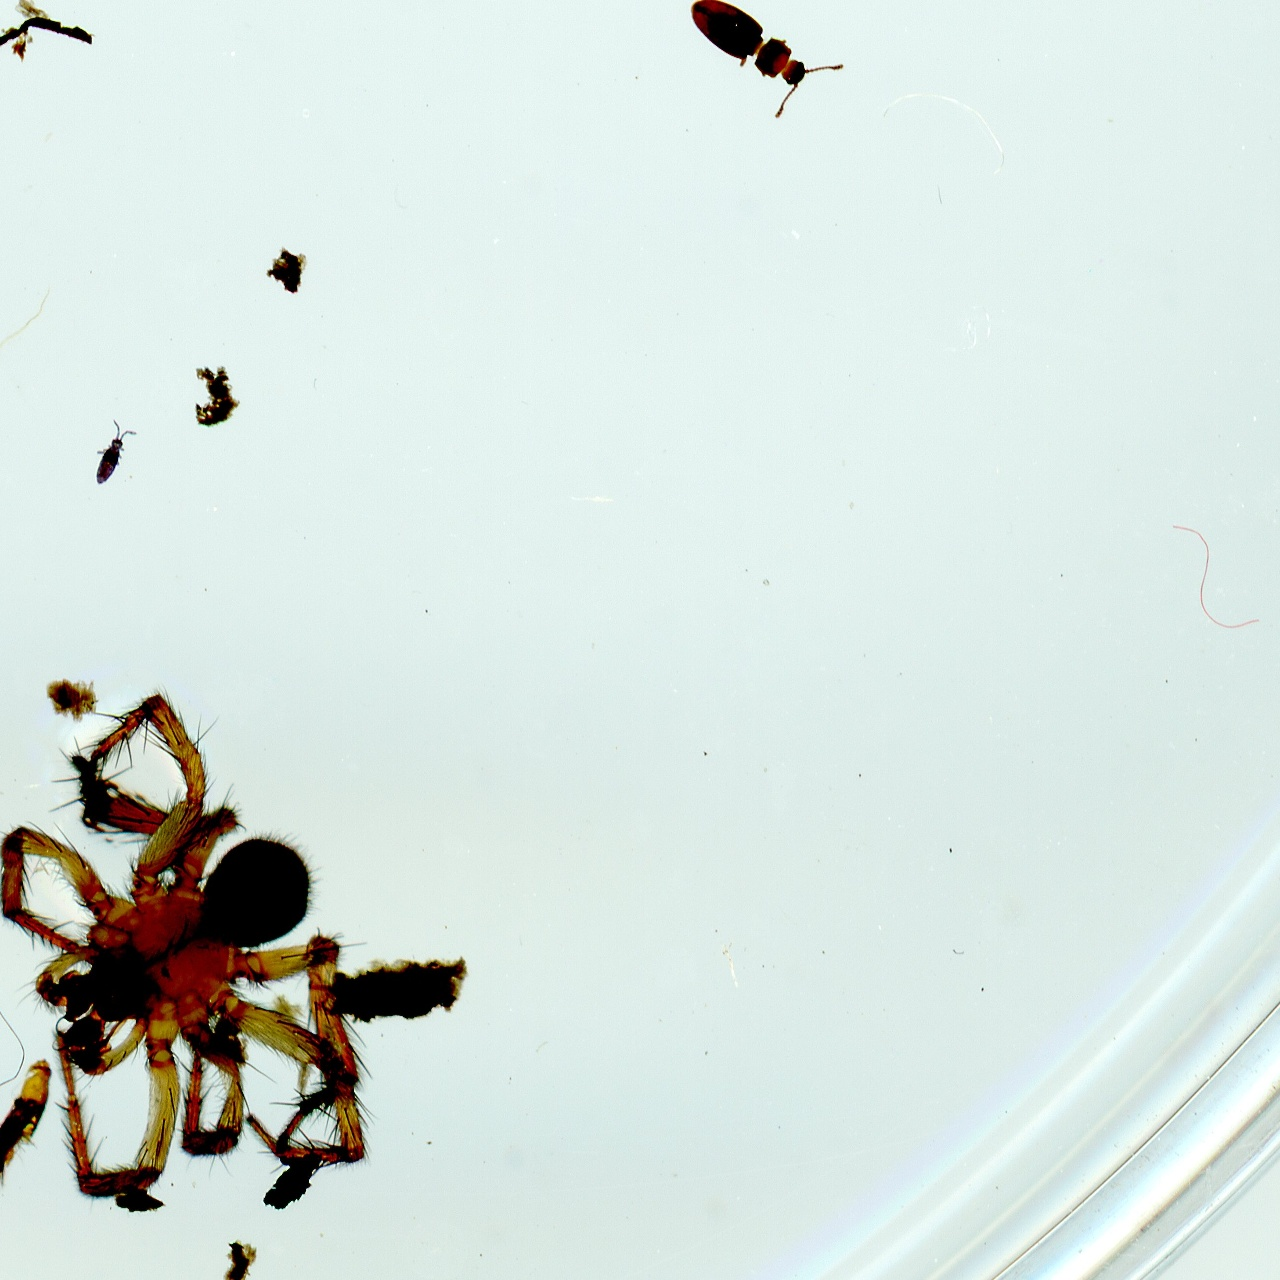arthropod: (0, 669, 392, 1221), (670, 0, 851, 132), (84, 414, 143, 495)
